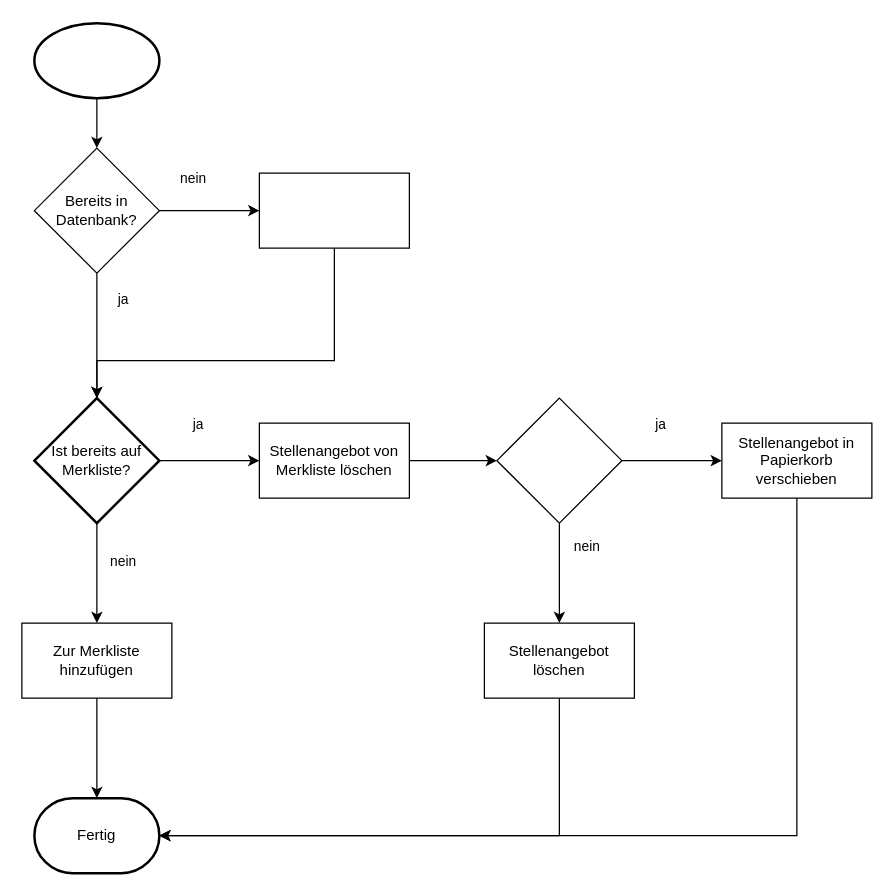
The diagram is 894 pixels wide and 895 high, and some of its shapes have lost their labels. Each missing label, with the box of its shape:
Hat das Angebot zusätzliche Daten?: (496, 397, 622, 523)
Merkliste Toggle Anfrage: (32, 21, 160, 99)
Stellenangebot erzeugen: (258, 172, 409, 248)
